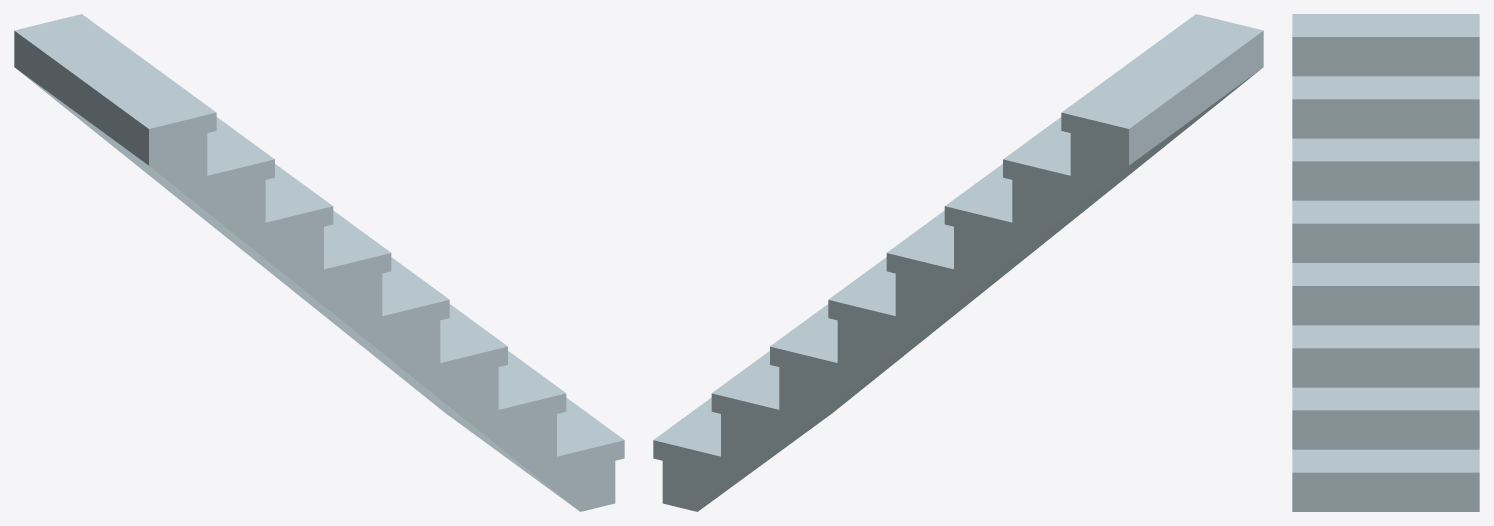
Rendered from stairsStone.glb.
3 views of the same model, side by side, from view 1: azimuth 30°, elevation 25°; view 2: azimuth 150°, elevation 25°; view 3: azimuth 270°, elevation 25° (orthographic). The views are drawn at different scales.
Visible parts, largest first — view 1: stairsStone; view 2: stairsStone; view 3: stairsStone.
Part boxes in pixels (x1,y1,x2,y2): stairsStone: [14, 14, 624, 511]; stairsStone: [653, 14, 1263, 511]; stairsStone: [1292, 14, 1479, 511].
Bounding box in the file's own units: 1.02 × 1 × 0.5.
